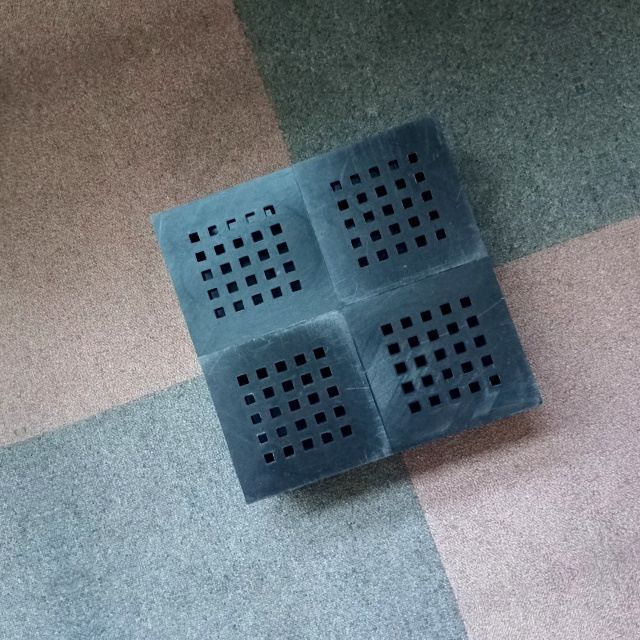pallet: (135, 106, 553, 515)
